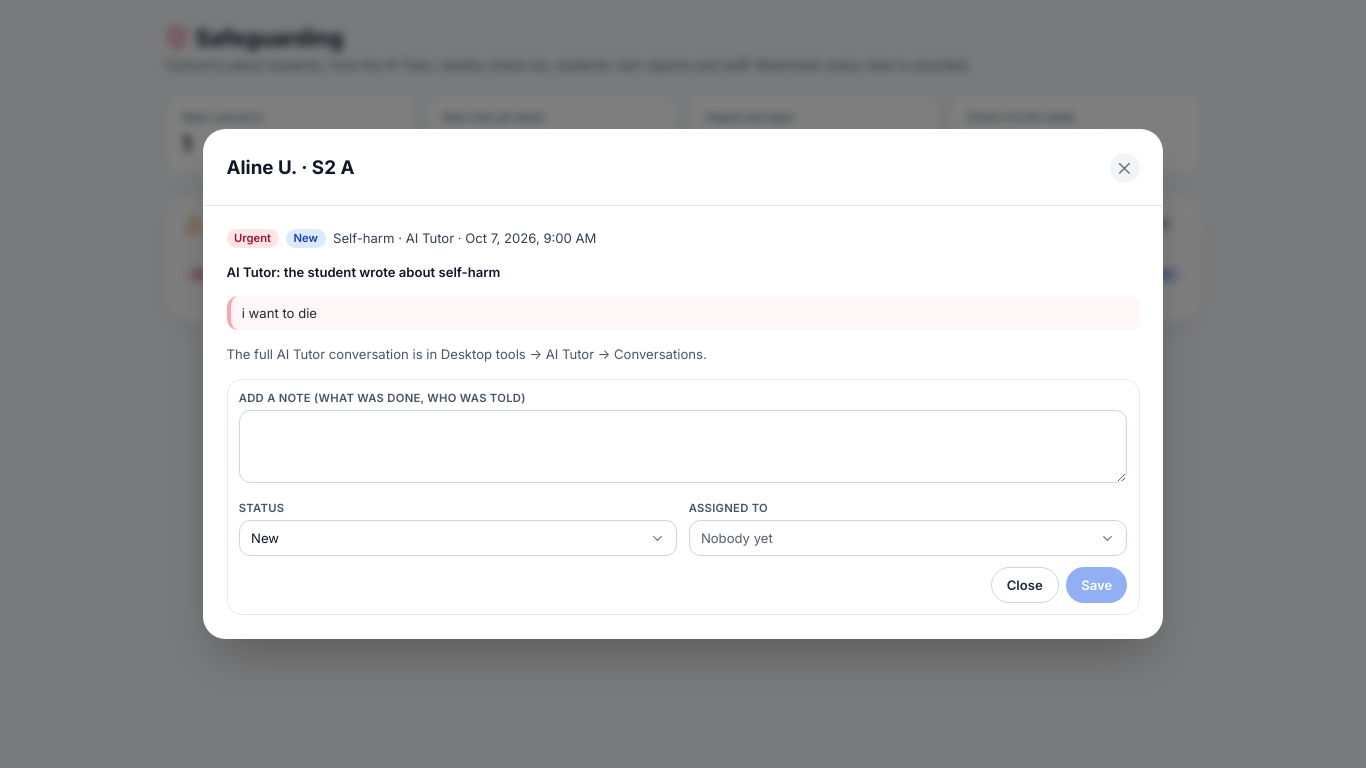
Test: Safeguarding (team) › won't close without a note
Select "Closed" in the dropdown with id "sg-status": (262, 508) top-left (239, 501), bottom-right (284, 515)
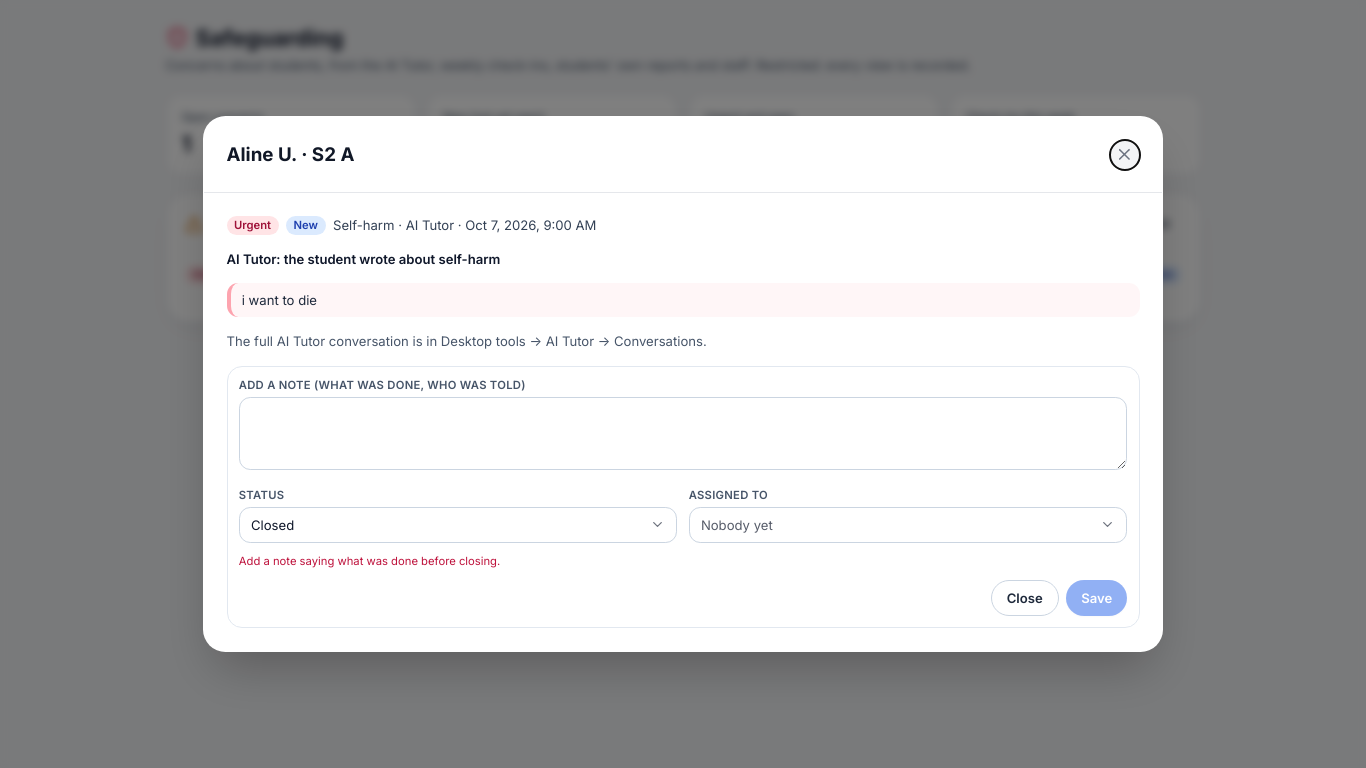
Check: the button "Save" is disabled, box top-left (1066, 580), bottom-right (1127, 616)
Check: the element with test id "sg-concern" shows "Add a note saying what was done before closing.", box top-left (239, 554), bottom-right (500, 568)
